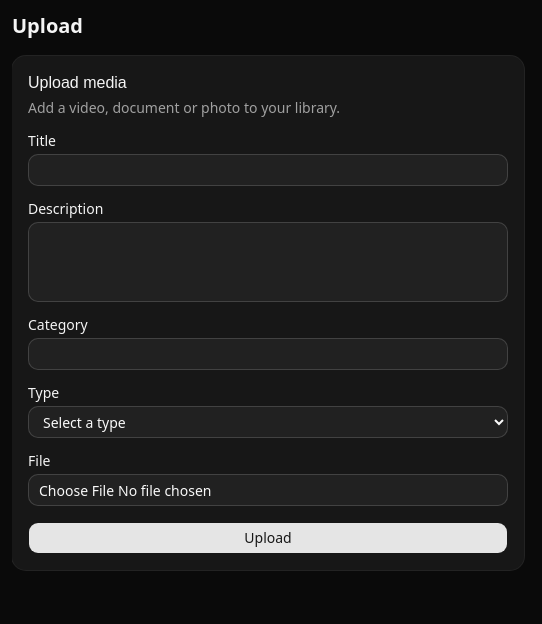
Test: UploadPage › shows a validation error and does not upload when file is missing
The width and height of the screenshot is (542, 624).
Type "Holiday clip" into the field labelled "Title".
click(268, 170); type("Holiday clip")  # box 28,154 -> 508,186
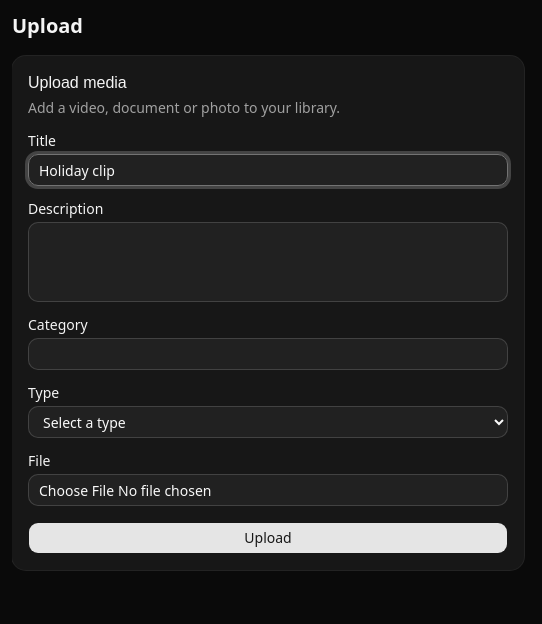
Select "Video" in the dropdown labelled "Type" at (268, 422), box 28,406 -> 508,438
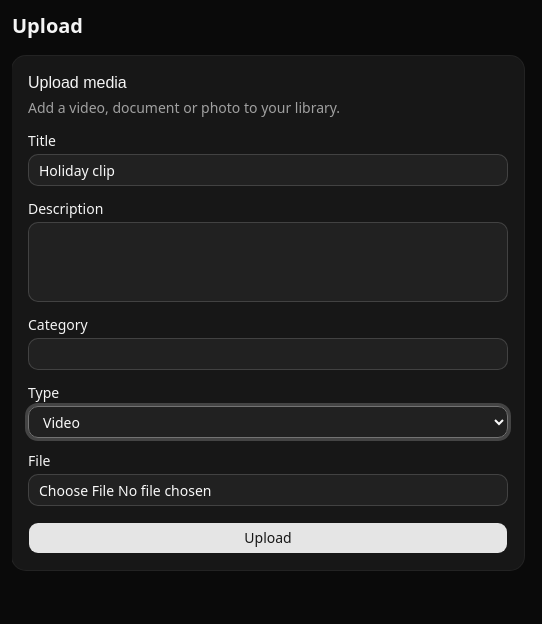
Click the button "Upload".
click(268, 538)  # box 28,522 -> 508,554
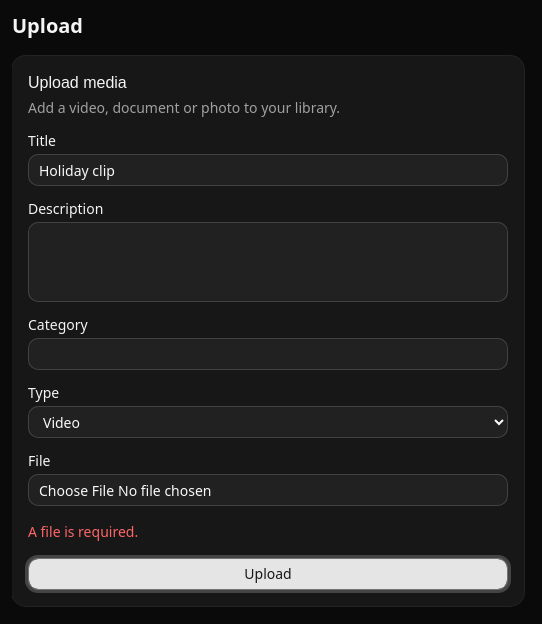
Result: the text "A file is required." is shown at 28,522 -> 138,541
